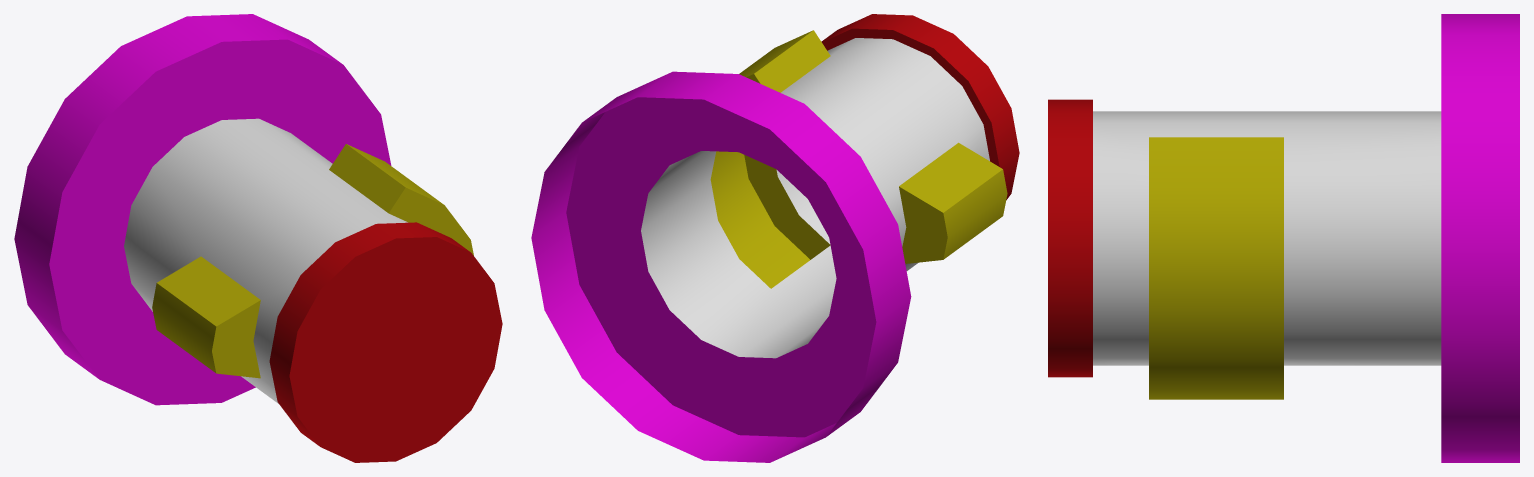
The model's file is transceiver.fbx.
The picture shows the model from 3 angles, left to right: view 1: azimuth 30°, elevation 25°; view 2: azimuth 150°, elevation 25°; view 3: azimuth 270°, elevation 25°; orthographic projection. The views are drawn at different scales.
Visible parts, largest first — view 1: Transceiver; view 2: Transceiver; view 3: Transceiver.
Part boxes in pixels (x1,y1,x2,y2): Transceiver: (14, 14, 502, 462); Transceiver: (531, 14, 1019, 462); Transceiver: (1048, 14, 1519, 462).
Bounding box in the file's own units: 20 × 20 × 21.
